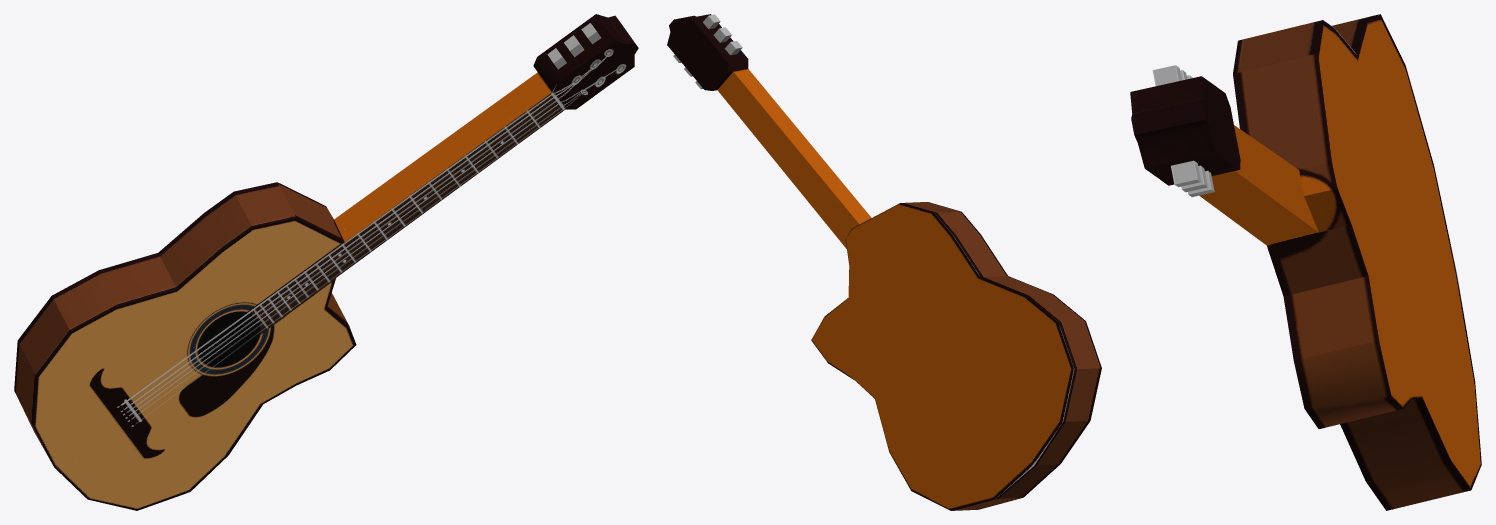
The model's file is Guitarra3_000013.obj.
3 renders of one model, left to right at view 1: azimuth 30°, elevation 25°; view 2: azimuth 150°, elevation 25°; view 3: azimuth 270°, elevation 25°, orthographic. The views are drawn at different scales.
Visible parts, largest first — view 1: Guitarra_2:pPlane4; view 2: Guitarra_2:pPlane4; view 3: Guitarra_2:pPlane4.
Part boxes in pixels (bbox=[...]): Guitarra_2:pPlane4: bbox=[14, 14, 638, 510]; Guitarra_2:pPlane4: bbox=[667, 14, 1101, 510]; Guitarra_2:pPlane4: bbox=[1130, 14, 1481, 510].
Size of the model in its own units: 11.05 by 8.53 by 3.71.
